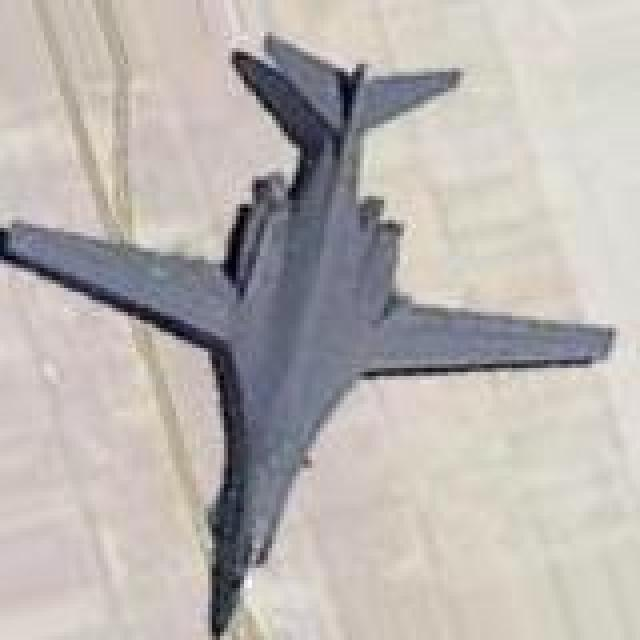B-1_TopDown: (0, 24, 616, 636)
